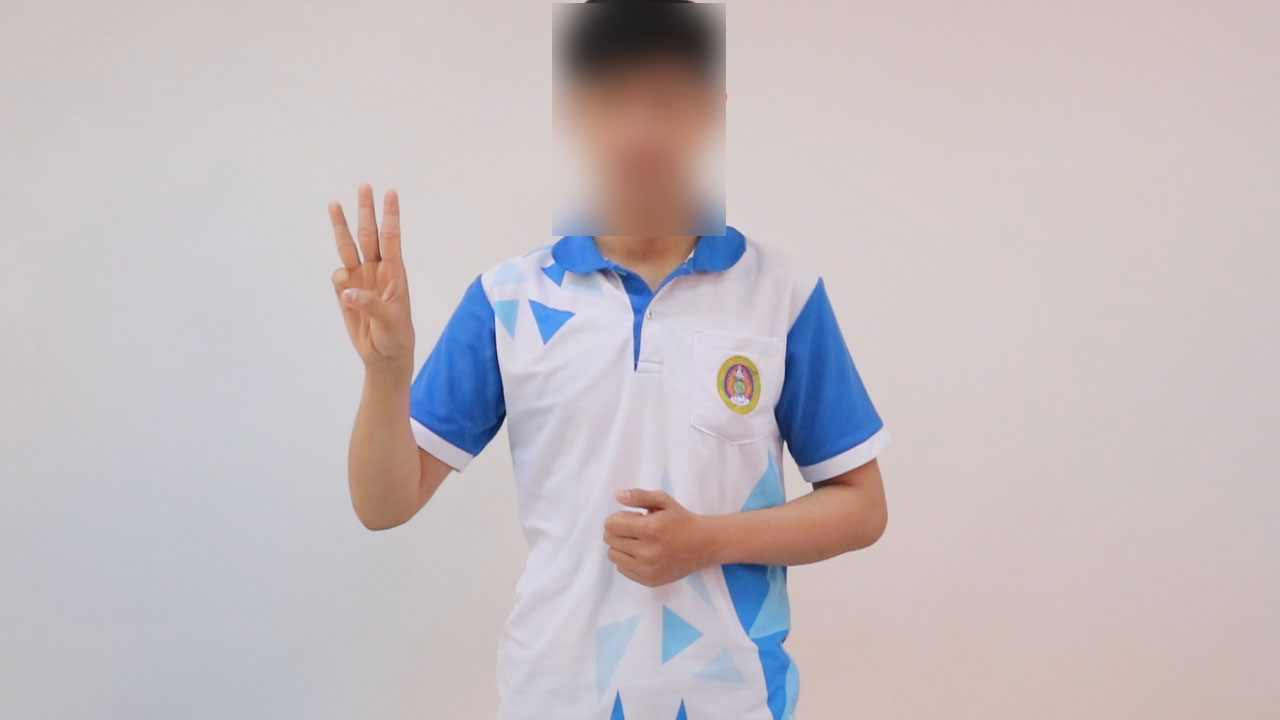wor: (319, 176, 423, 381)
